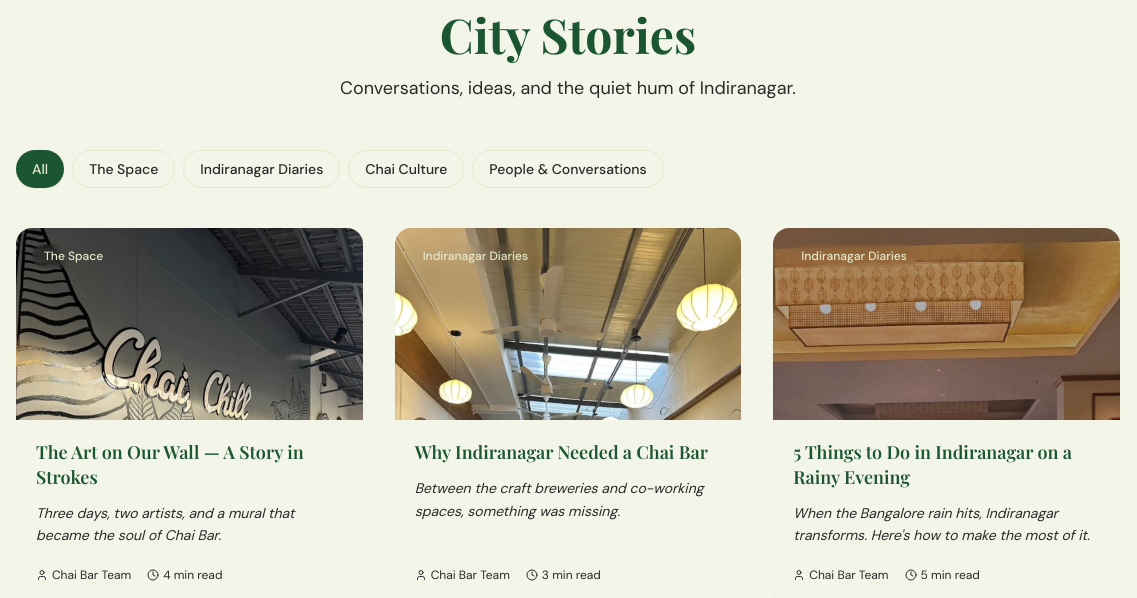
Test case: BlogList › category filter shows only matching posts when 'The Space' is selected
// Click the "The Space" filter pill
Click the button "The Space".
click(124, 169)  # box [72, 150, 175, 188]
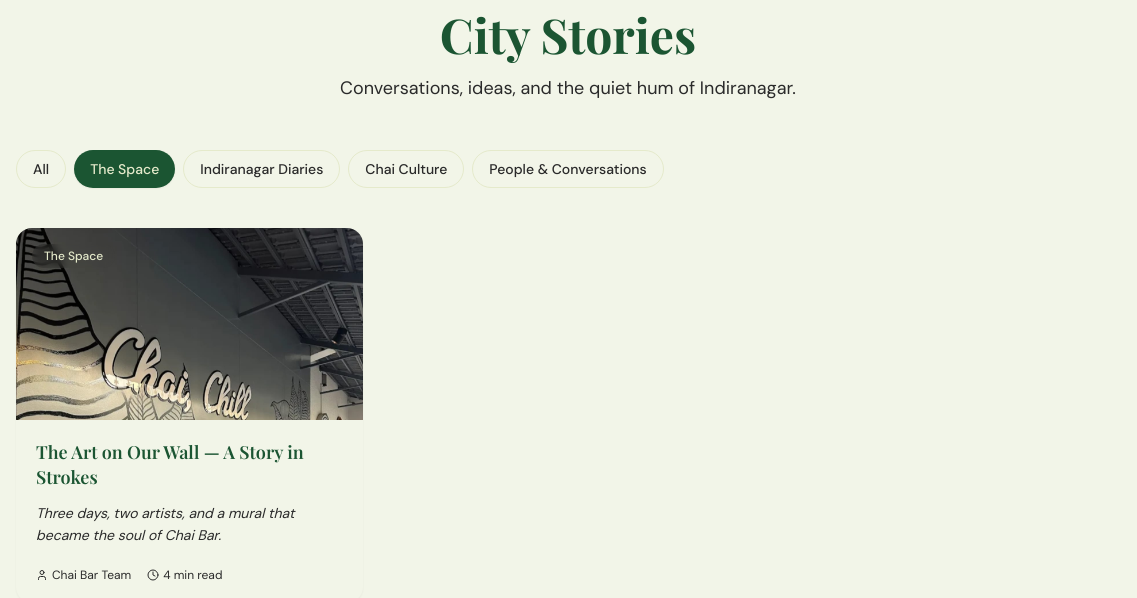
Expected: the heading "The Art on Our Wall — A Story in Strokes" is shown, [36, 440, 343, 490]
Now the link "Why Indiranagar Needed a Chai Bar" is gone
Now the link "5 Things to Do in Indiranagar on a Rainy Evening" is gone
